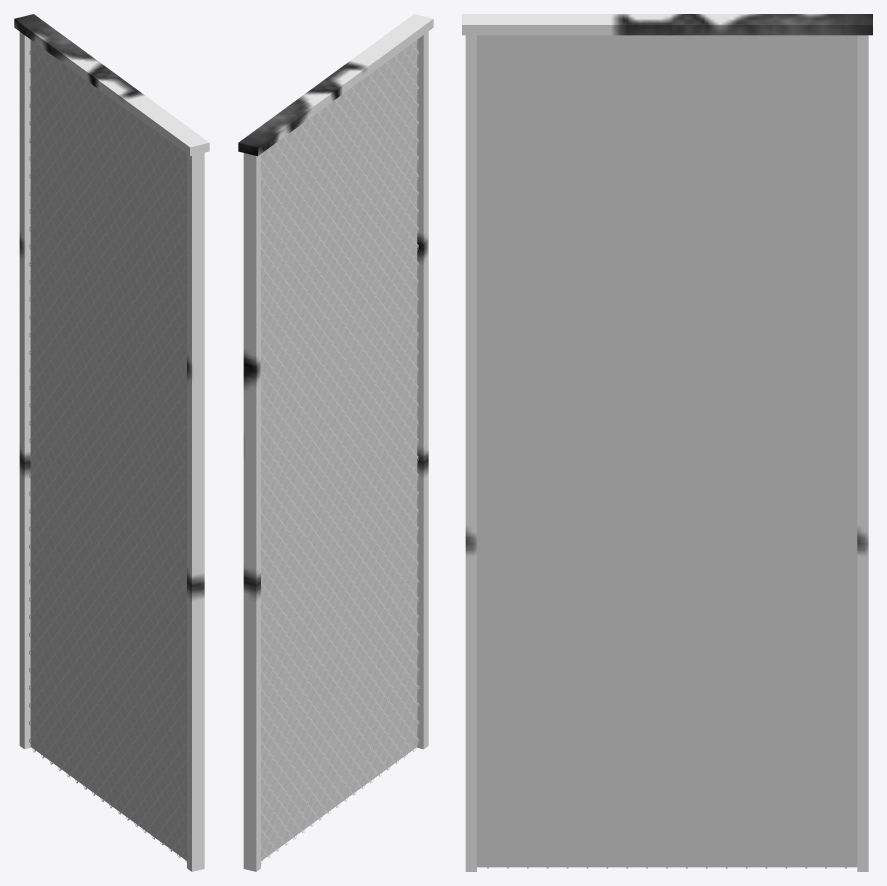
Rendered from 栅栏一半.FBX.
3 views of the same model, side by side, from view 1: azimuth 30°, elevation 25°; view 2: azimuth 150°, elevation 25°; view 3: azimuth 270°, elevation 25° (orthographic). The views are drawn at different scales.
Parts seen in each view (by area): view 1: Plane01, Box03; view 2: Plane01, Box03; view 3: Plane01, Box03.
Boxes of the visible parts, x1,y1,x2,y2 form: Plane01: (30,40,186,860); Box03: (14,14,209,871); Plane01: (261,40,417,860); Box03: (238,14,433,871); Plane01: (477,35,857,867); Box03: (462,14,872,871).
Size of the model in its own units: 3.63 by 56.6 by 129.
